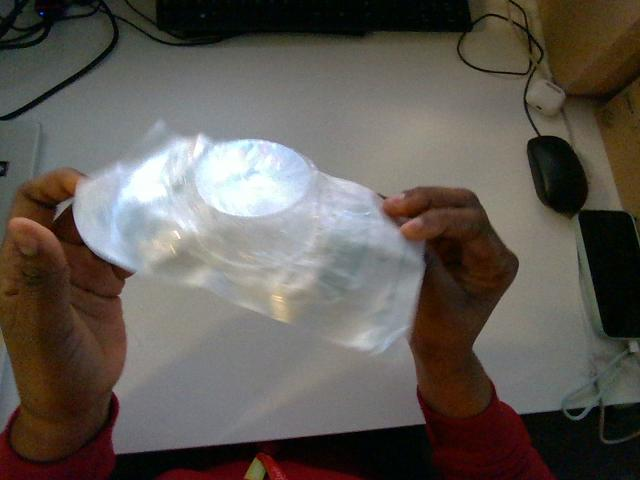gallipot: (73, 129, 423, 350)
